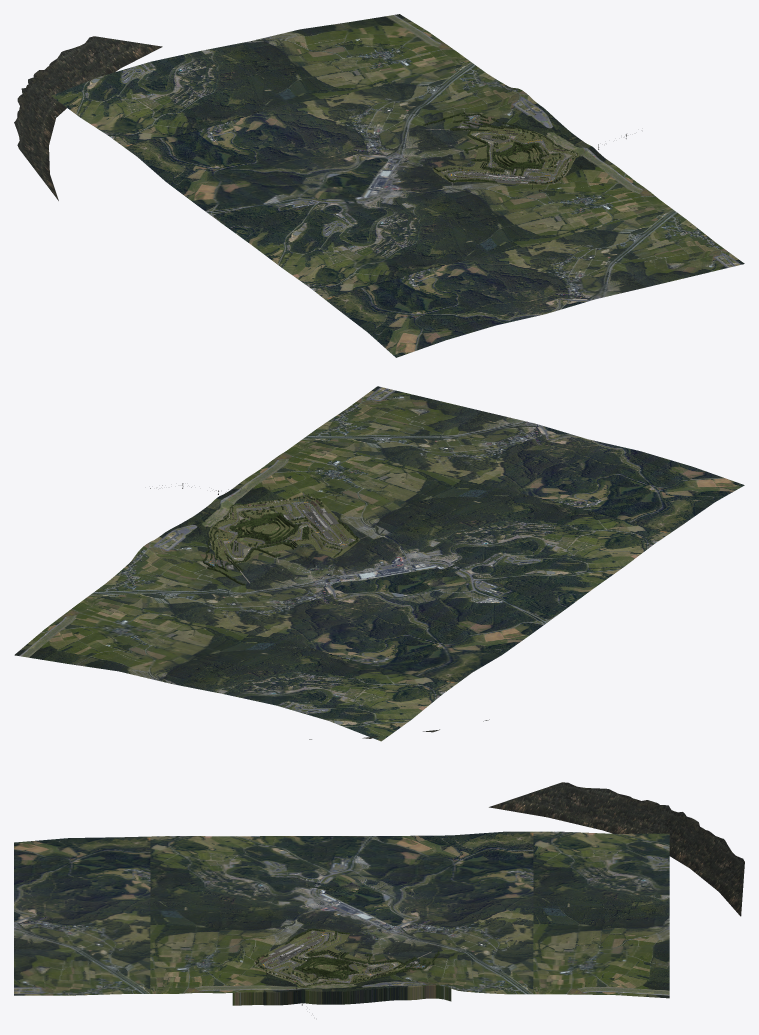
The model's file is hungaroring_2020_layout-optimized.glb.
The picture shows the model from 3 angles, top to bottom: view 1: azimuth 30°, elevation 25°; view 2: azimuth 150°, elevation 25°; view 3: azimuth 270°, elevation 25°; orthographic projection. The views are drawn at different scales.
Visible parts, largest first — view 1: hungaroring_0; view 2: hungaroring_0; view 3: hungaroring_0.
Boxes of the visible parts, x1,y1,x2,y2 form: hungaroring_0: (14, 14, 744, 357); hungaroring_0: (14, 386, 744, 741); hungaroring_0: (14, 782, 744, 1005).
Bounding box in the file's own units: 5126 × 330 × 6849.
100 materials, 100 textured.
